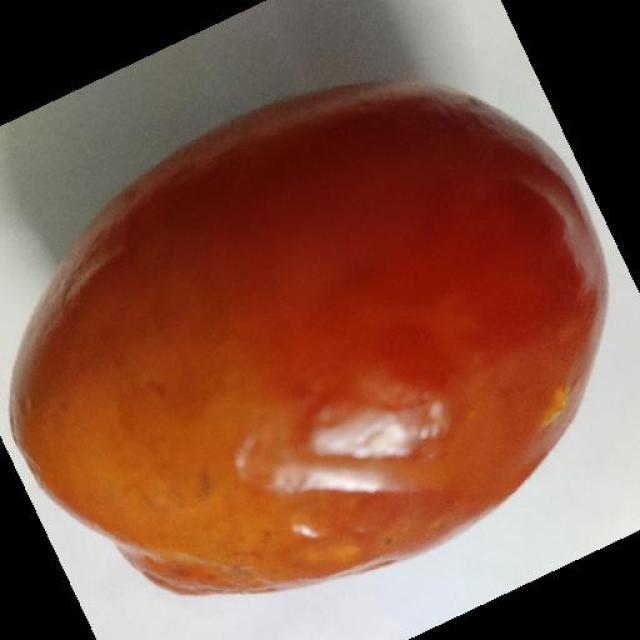Stale_tomato: (0, 90, 598, 570)
